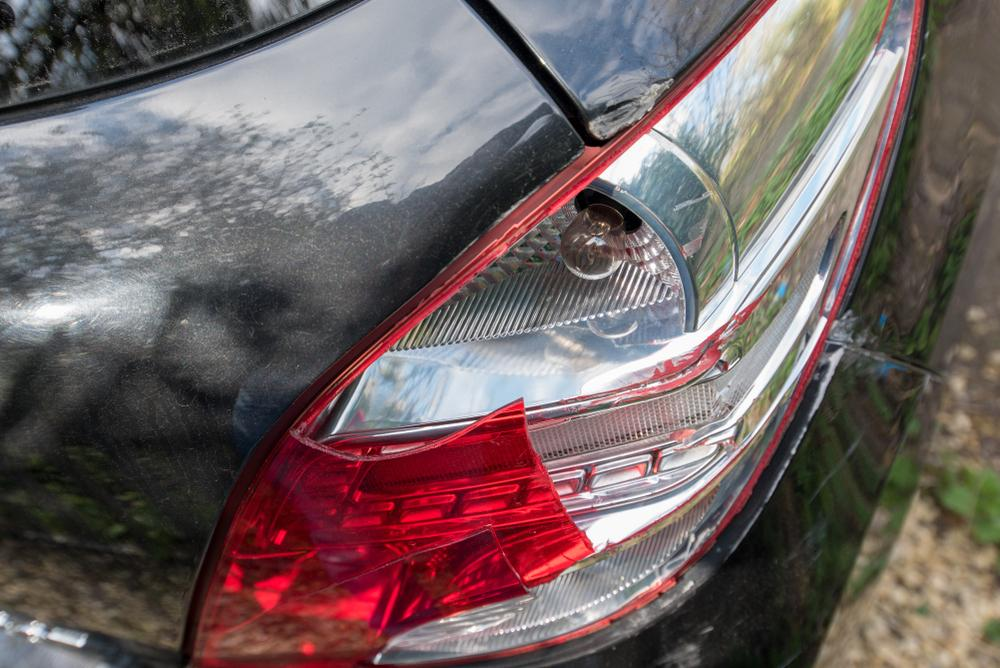dent: (576, 64, 662, 136)
lamp broken: (177, 0, 929, 668)
